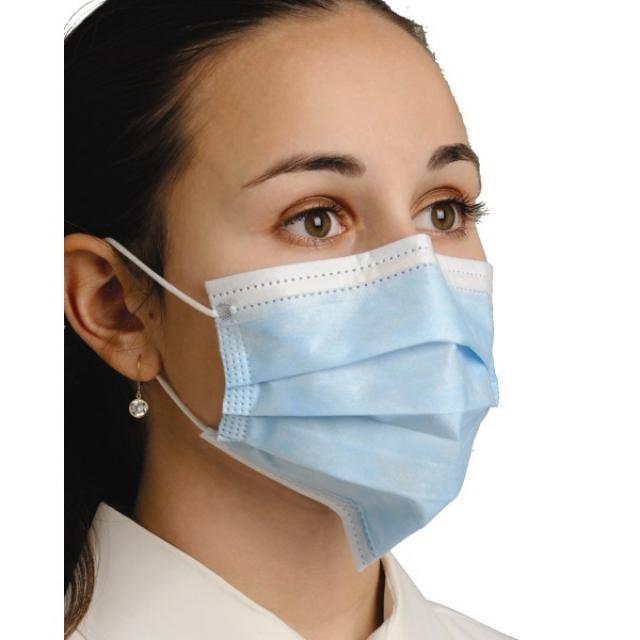1_mascarilla: (158, 251, 542, 550)
